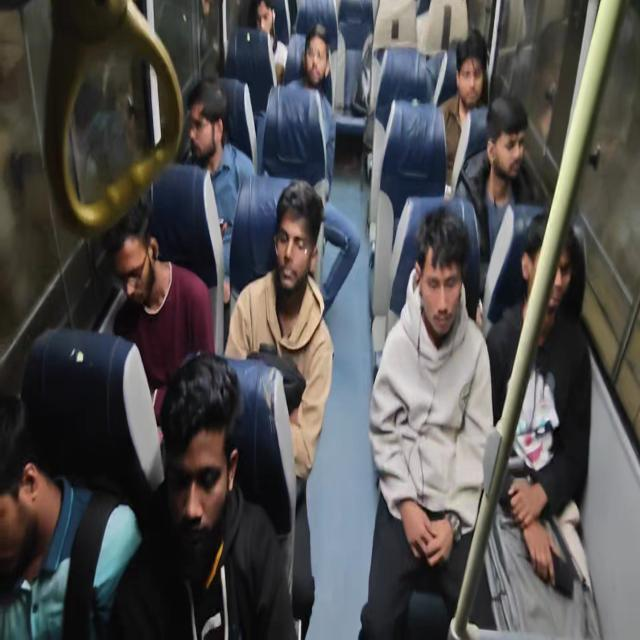person: (119, 379, 279, 584), (97, 194, 158, 430), (180, 59, 258, 232), (513, 202, 585, 384), (0, 316, 41, 608), (292, 33, 353, 161), (404, 220, 464, 315), (264, 180, 309, 298), (482, 89, 525, 188), (452, 31, 499, 120), (232, 0, 284, 39)
